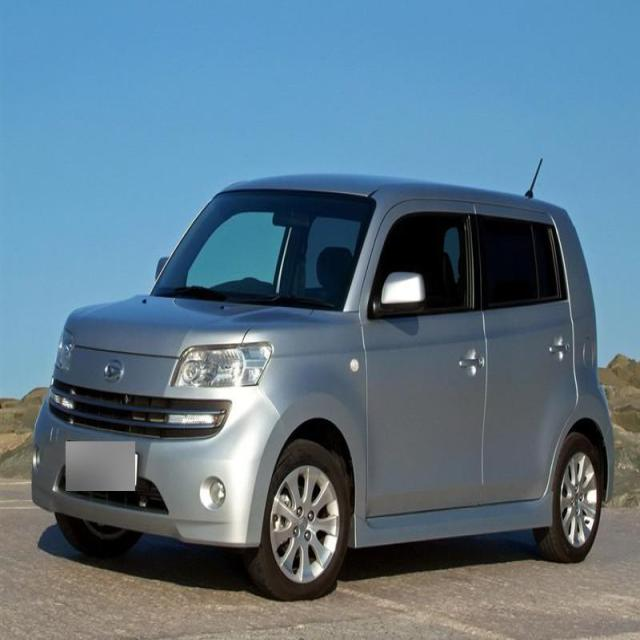door: (472, 210, 581, 509)
front_bumper: (30, 382, 279, 548)
front_glass: (151, 184, 380, 310)
front_left_side_door: (362, 195, 488, 519)
front_left_side_light: (170, 338, 272, 396)
front_left_side_mirror: (380, 268, 426, 316)
front_right_side_light: (51, 325, 81, 378)
wheel: (256, 445, 346, 599), (550, 436, 604, 558)
